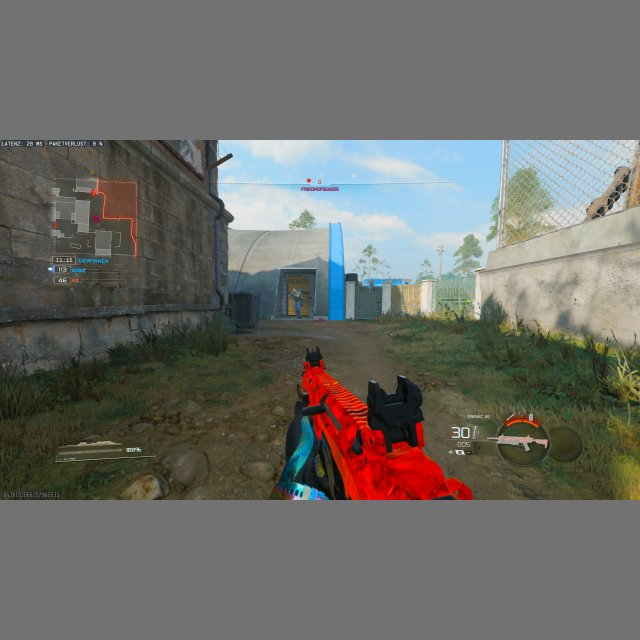player: (291, 287, 305, 319)
